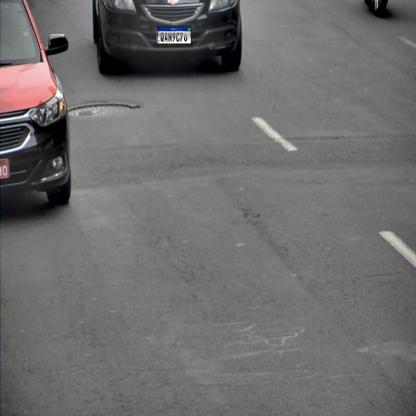PlacaM: (157, 26, 191, 44)
